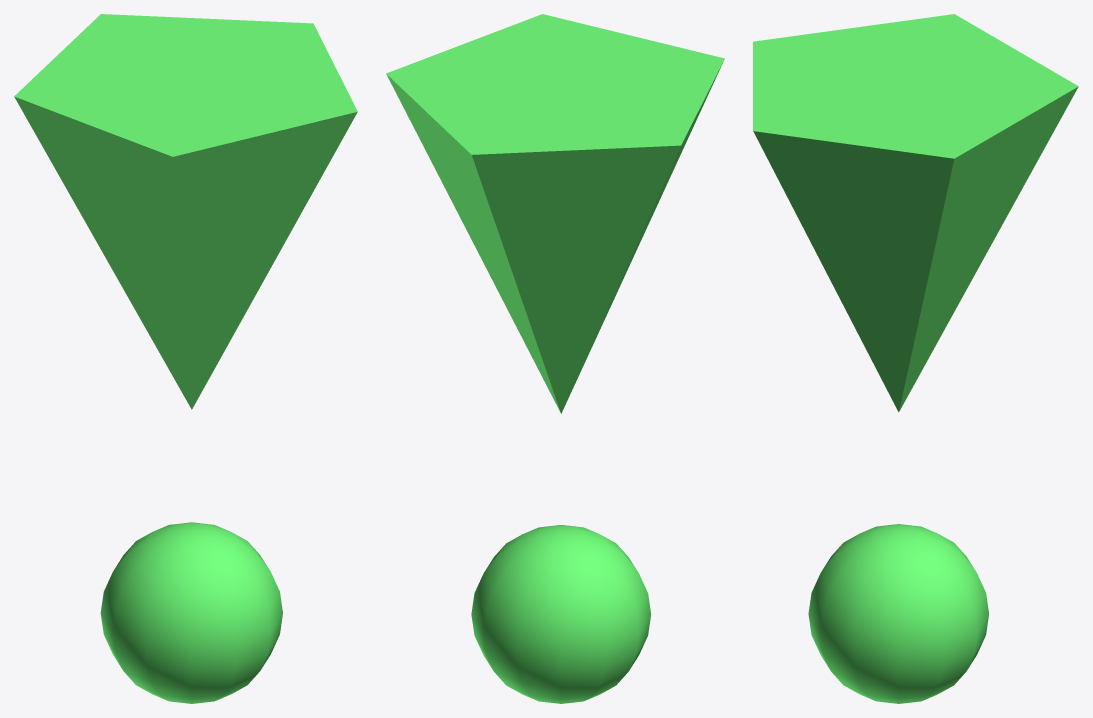
File: cursor.glb
The picture shows the model from 3 angles, left to right: view 1: azimuth 30°, elevation 25°; view 2: azimuth 150°, elevation 25°; view 3: azimuth 270°, elevation 25°; orthographic projection.
Visible parts, largest first — view 1: Sphere; view 2: Sphere; view 3: Sphere.
Boxes of the visible parts, <box> form: Sphere: <box>14,14,357,703</box>; Sphere: <box>386,14,724,703</box>; Sphere: <box>753,14,1078,703</box>.
Bounding box in the file's own units: 1.9 × 3.74 × 1.81.
